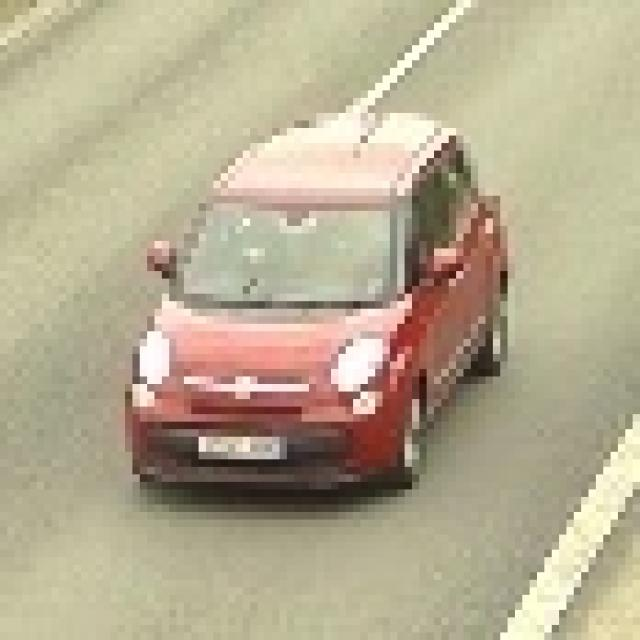red: (129, 110, 504, 502)
